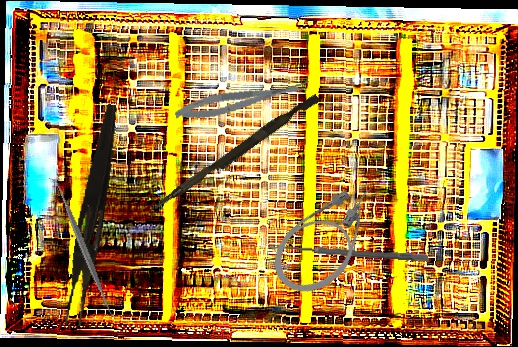Cannula: (260, 171, 400, 307)
Dressing Forceps: (63, 102, 121, 328)
Micro Scissor: (173, 76, 312, 125)
Pusher: (152, 89, 321, 217)
Spatula Surgical: (46, 172, 120, 323)
Surgical Spoon: (267, 242, 429, 262)
